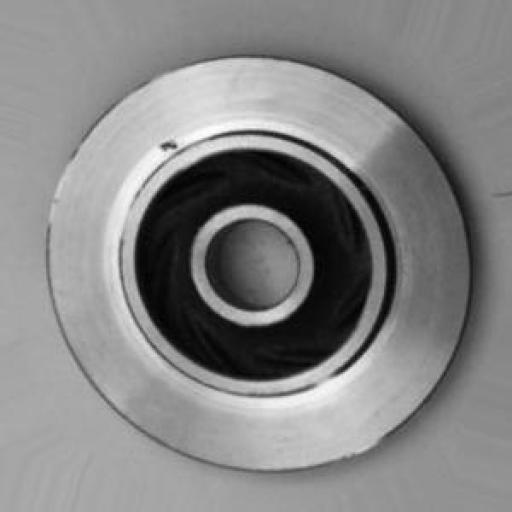defect: (150, 128, 194, 166)
